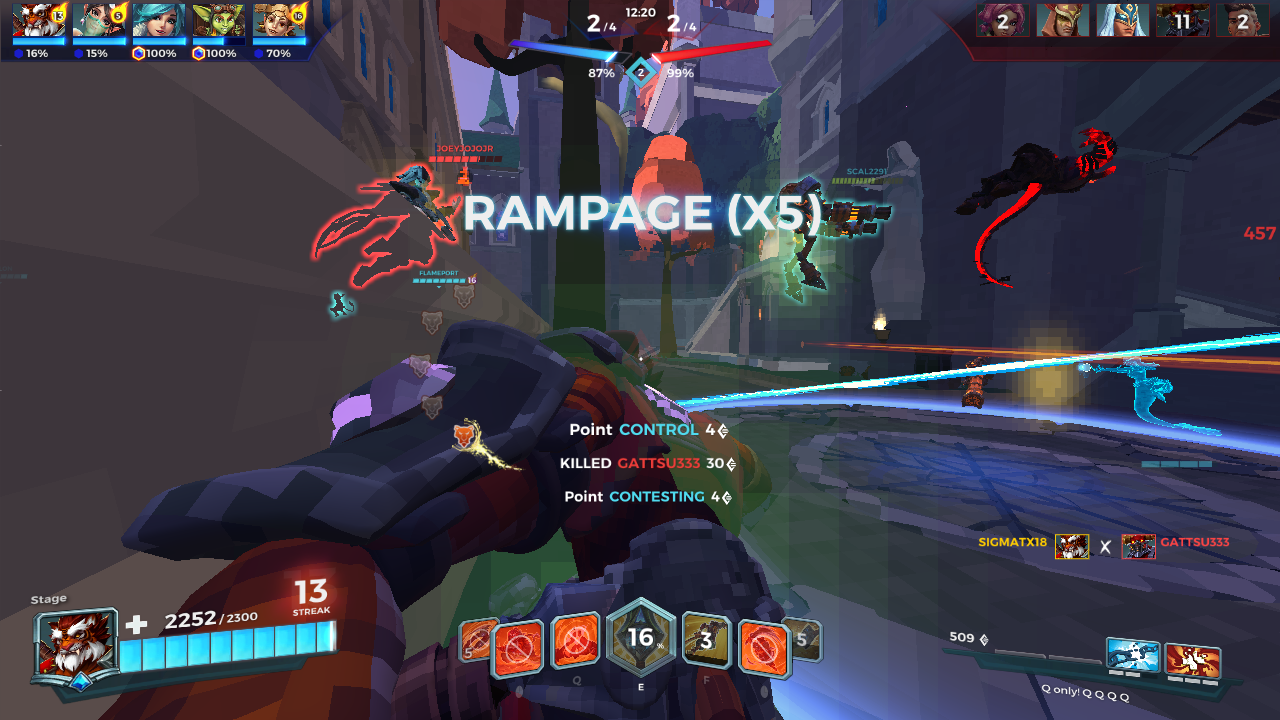model: (305, 157, 473, 291)
